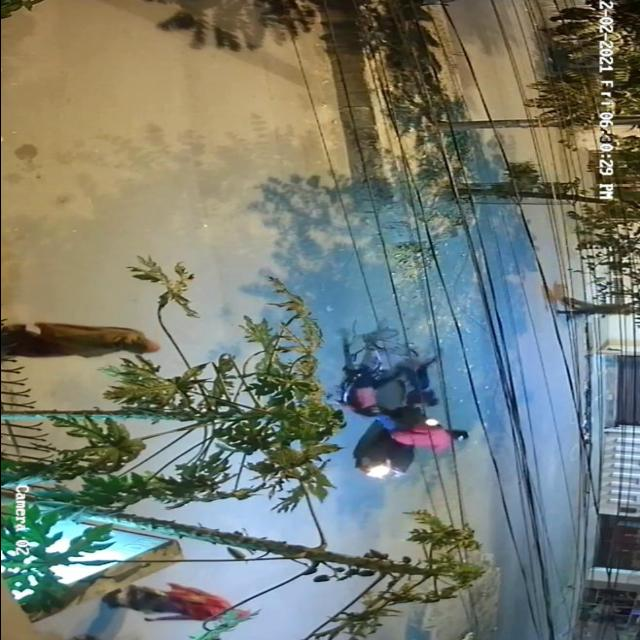accident: (311, 328, 477, 482)
